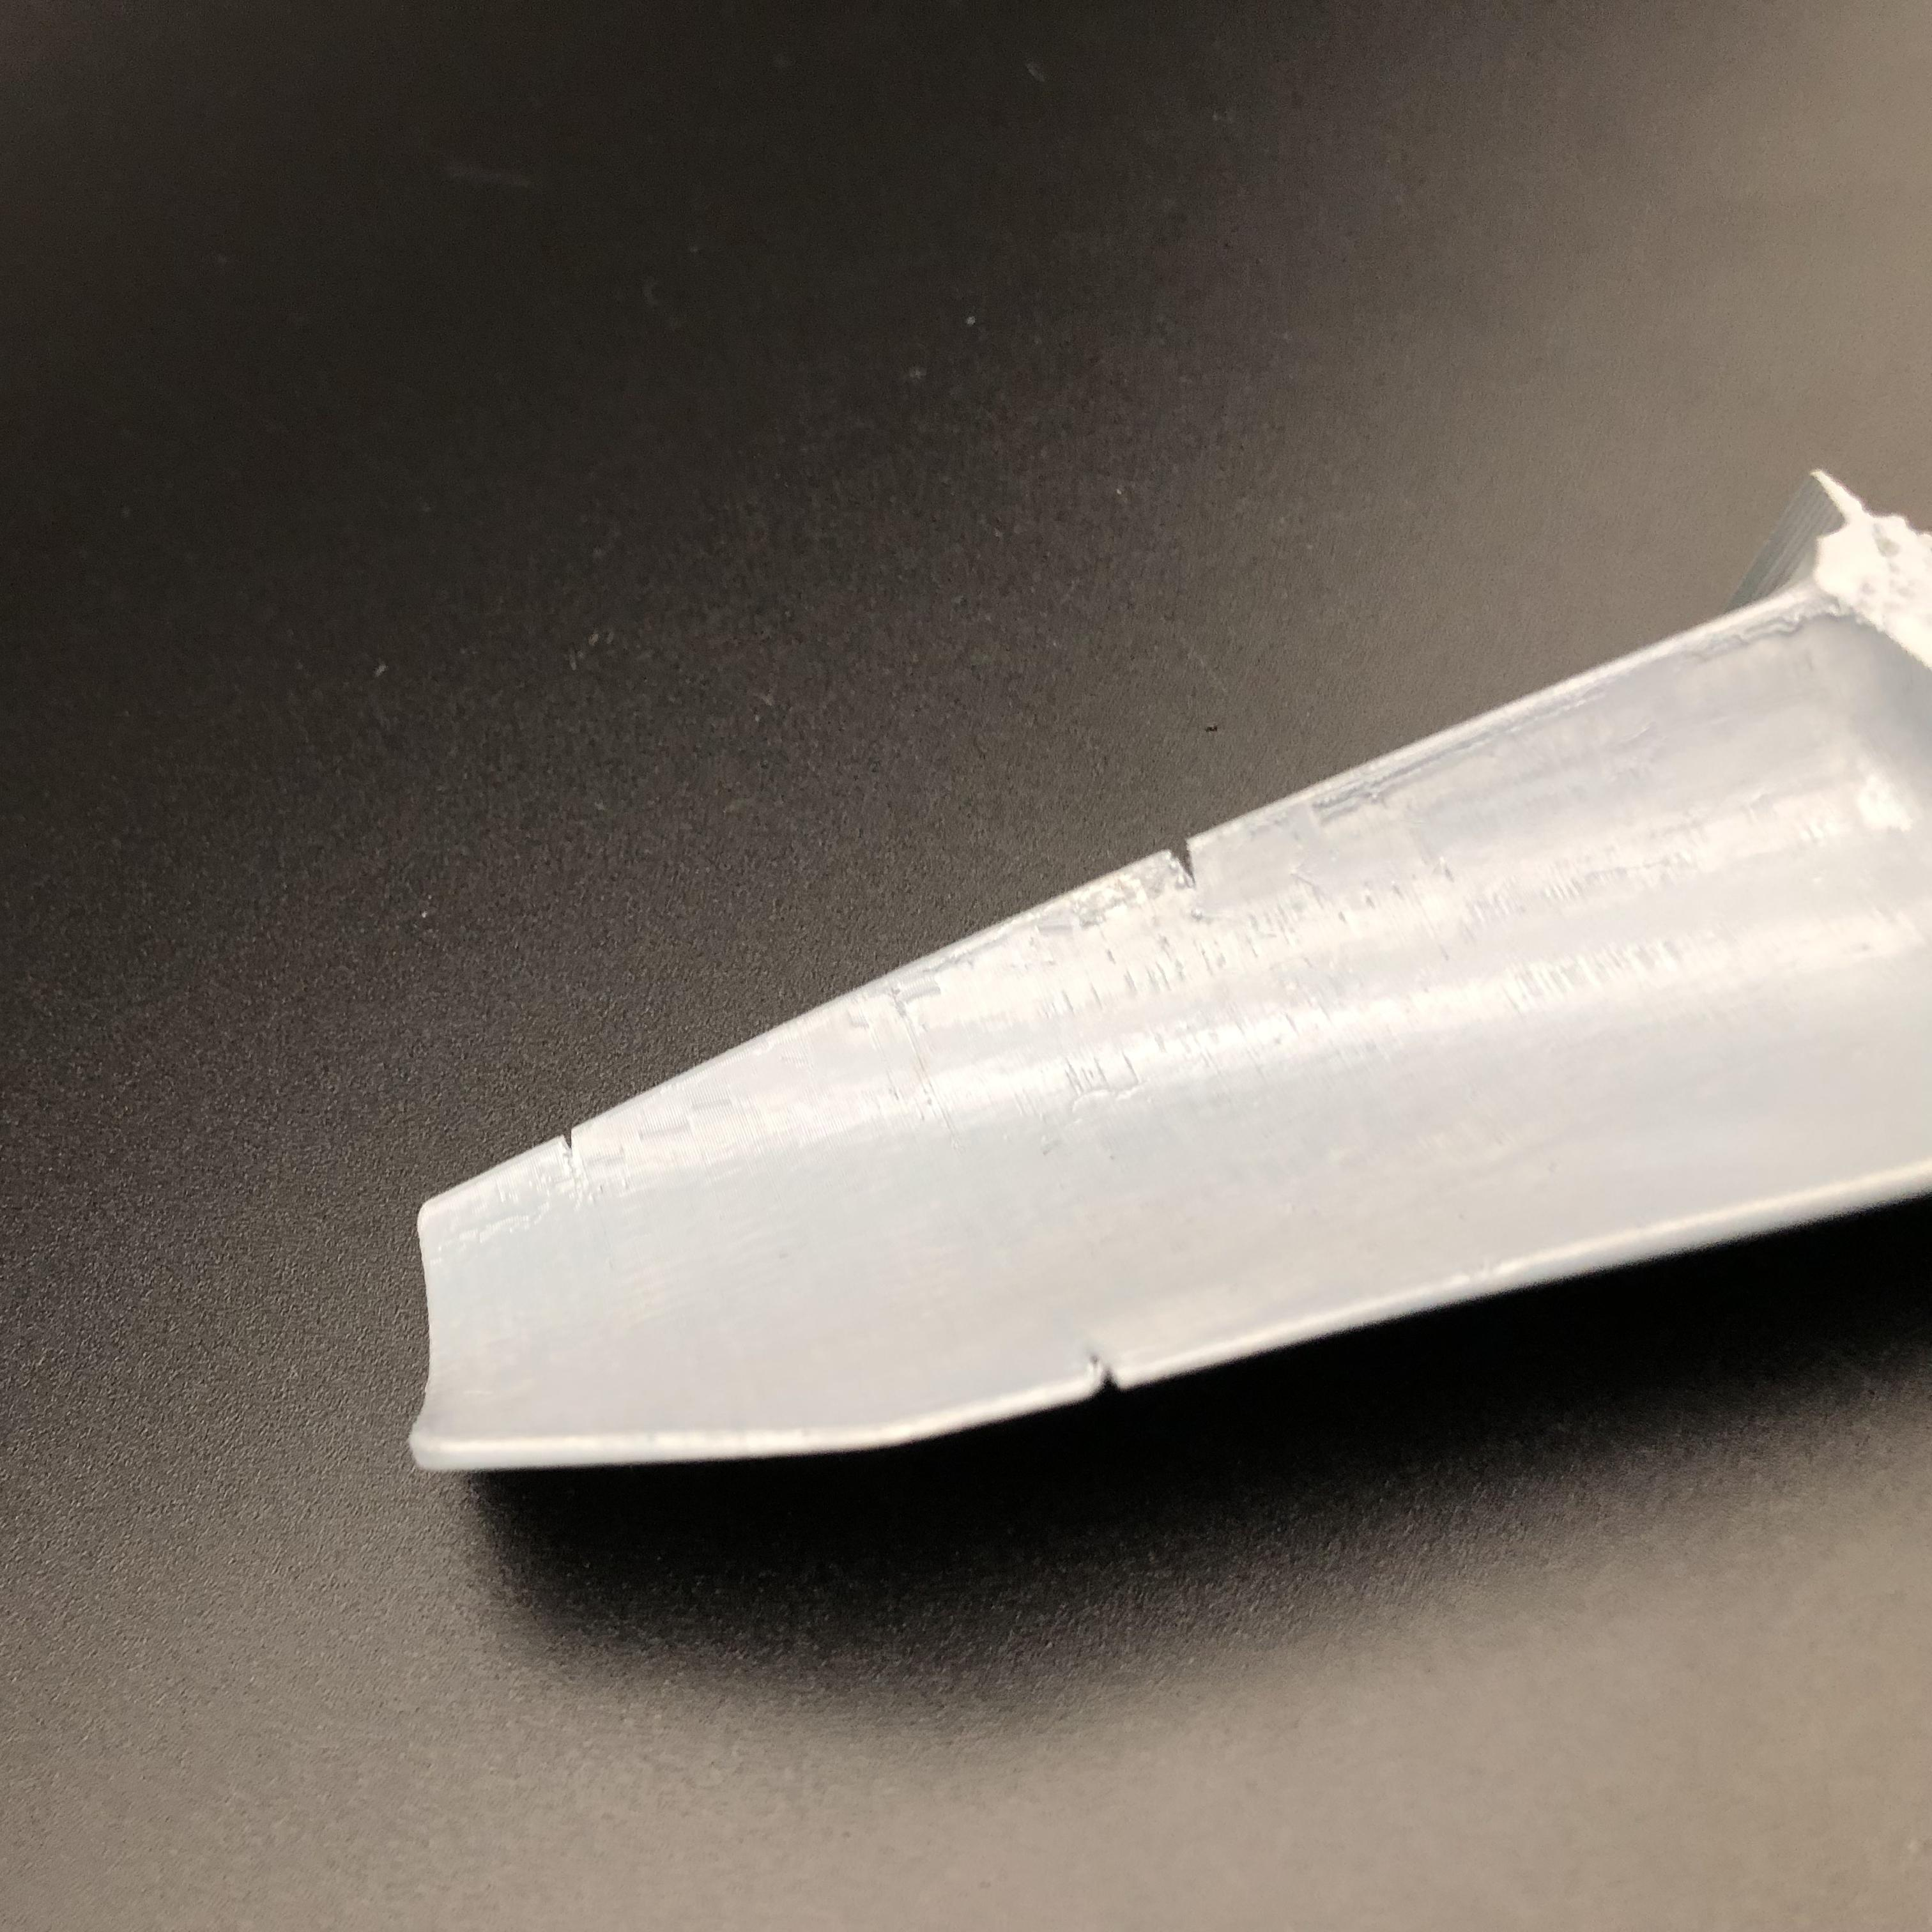groove: (1159, 830, 1214, 895), (1083, 1345, 1134, 1403), (557, 1127, 587, 1164)
